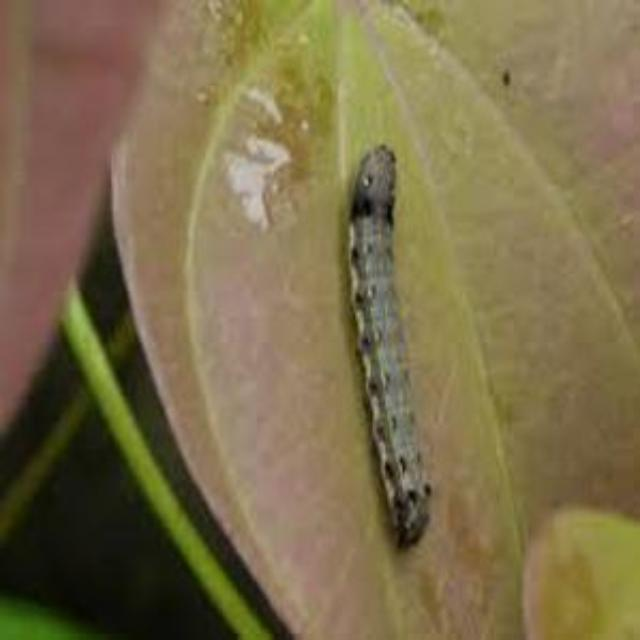Tobacco cutworm: (276, 119, 499, 559)
